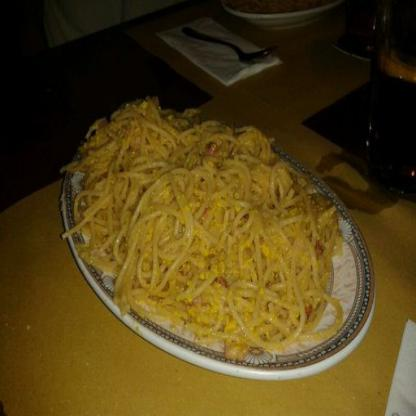Noodles: (57, 100, 351, 359)
